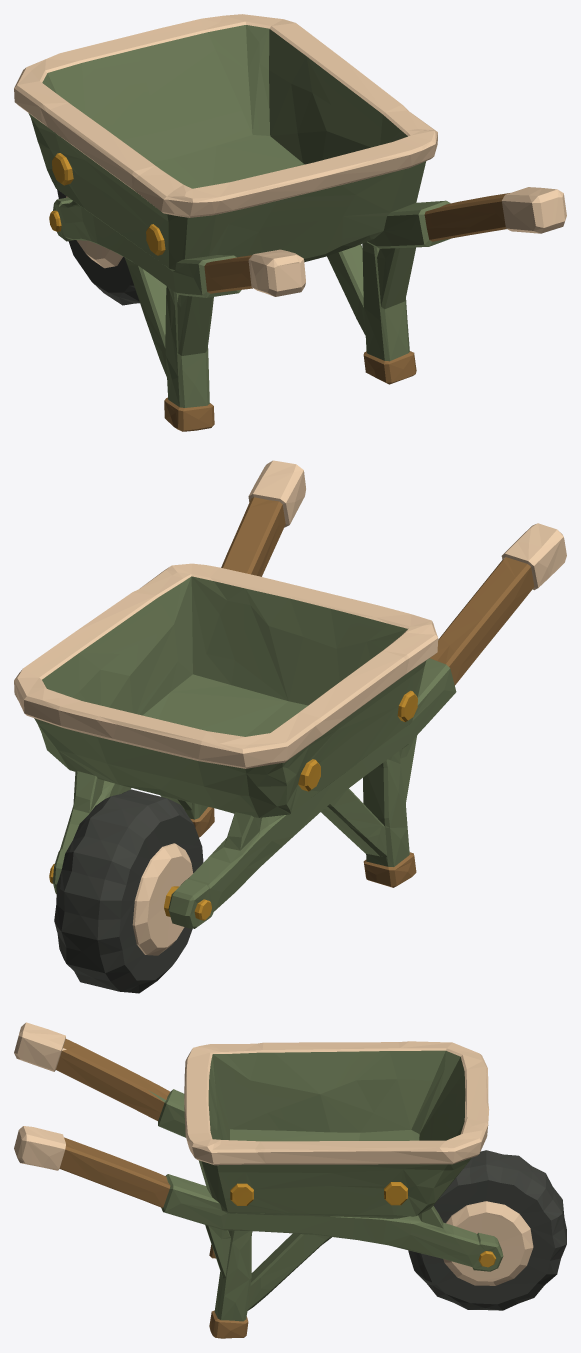
The model's file is Wheelbarrow.fbx.
3 views of the same model, one above another, from view 1: azimuth 30°, elevation 25°; view 2: azimuth 150°, elevation 25°; view 3: azimuth 270°, elevation 25° (orthographic). The views are drawn at different scales.
Visible parts, largest first — view 1: Wheelbarrow_Body, Wheelbase_Tear; view 2: Wheelbarrow_Body, Wheelbase_Tear; view 3: Wheelbarrow_Body, Wheelbase_Tear.
Boxes of the visible parts, x1,y1,x2,y2 form: Wheelbarrow_Body: [14, 14, 566, 431]; Wheelbase_Tear: [57, 189, 139, 305]; Wheelbarrow_Body: [14, 460, 566, 928]; Wheelbase_Tear: [54, 789, 203, 993]; Wheelbarrow_Body: [14, 1022, 503, 1338]; Wheelbase_Tear: [408, 1150, 566, 1310].
Size of the model in its own units: 0.6149 by 1.22 by 0.5492.
